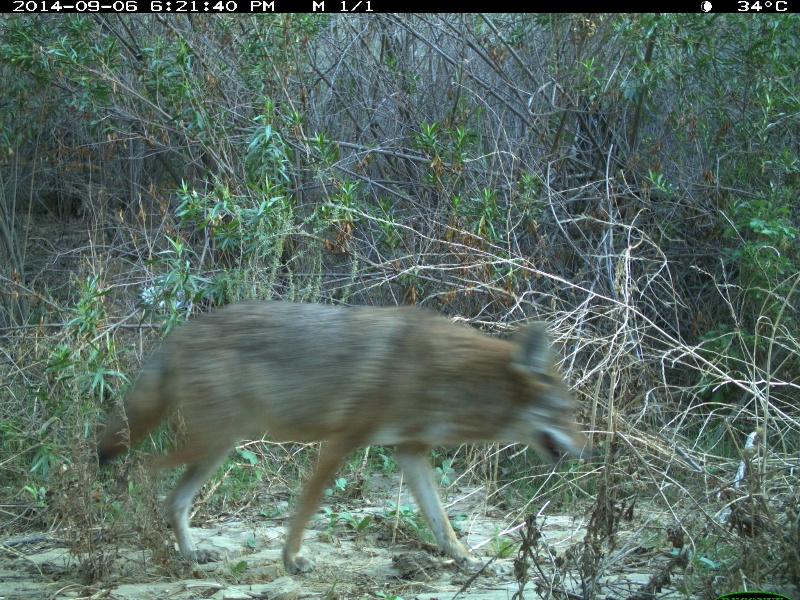coyote: (94, 298, 593, 573)
